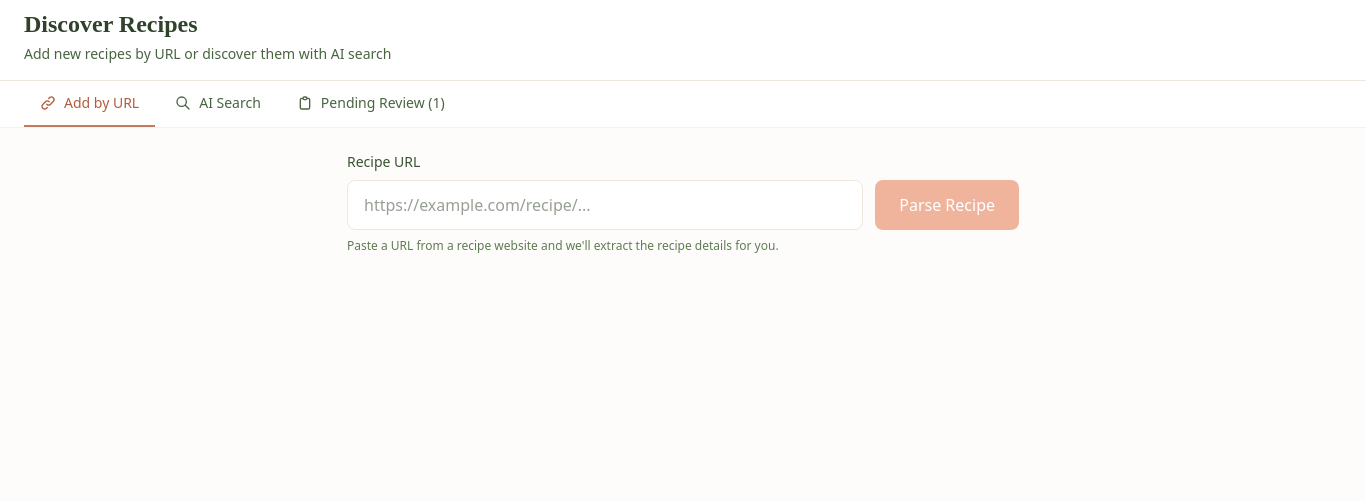
Test case: DiscoverPage › Pending Queue › loads and displays pending recipes
Click the button "Pending Review (1)": click(371, 104) [281,81,461,127]
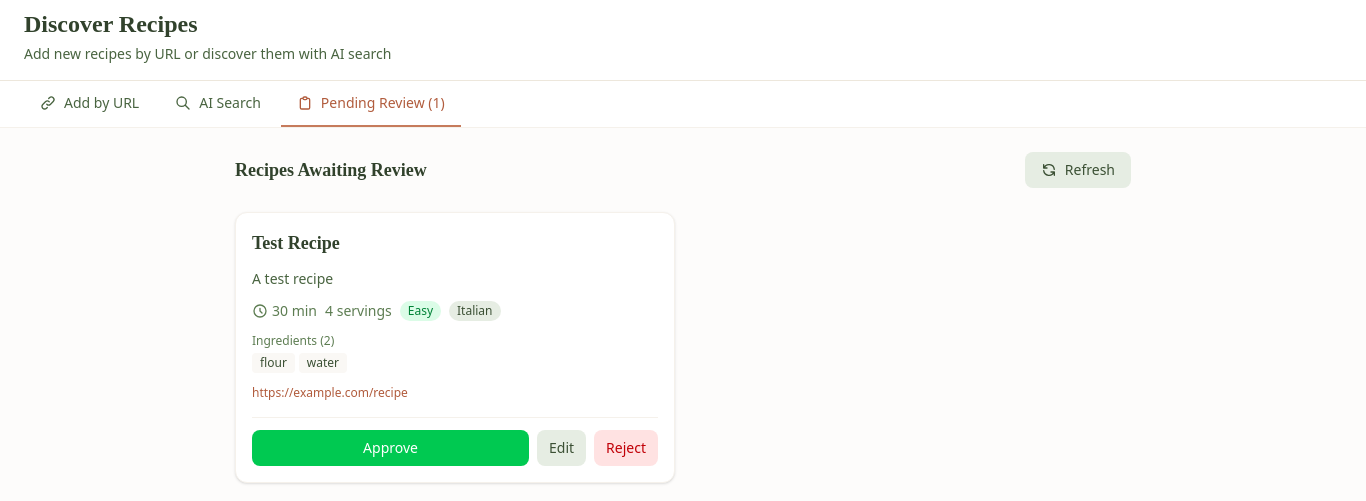
Expected: the heading "Test Recipe" is shown, [252,229,340,257]
